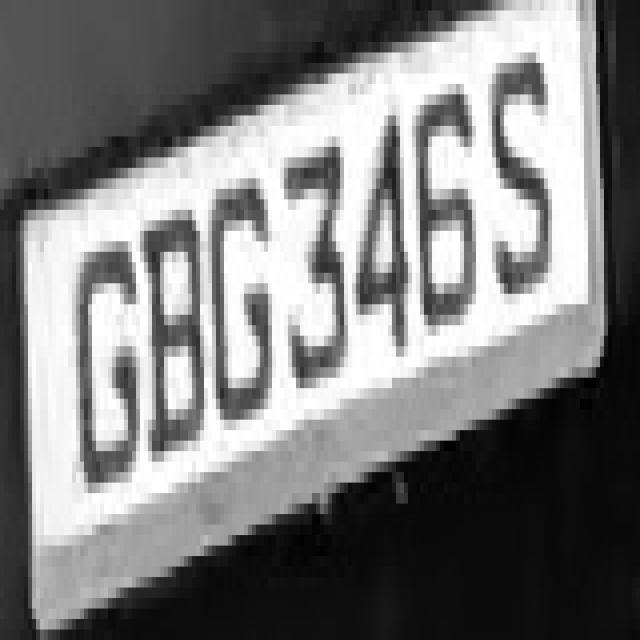3: (280, 126, 360, 399)
4: (344, 73, 420, 420)
6: (412, 52, 484, 378)
B: (148, 178, 216, 483)
G: (204, 158, 284, 482), (72, 189, 148, 493)
S: (488, 21, 568, 346)
